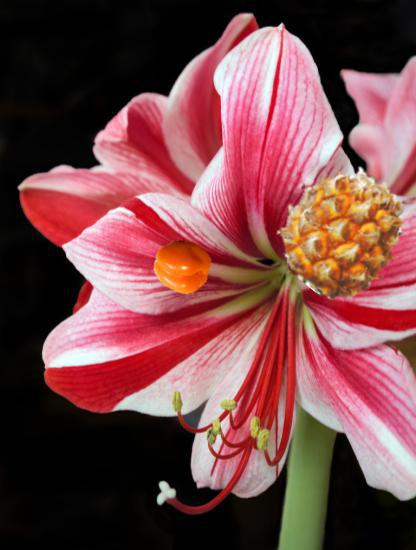Pepper: (153, 238, 212, 297)
Pineapple: (279, 166, 411, 298)
